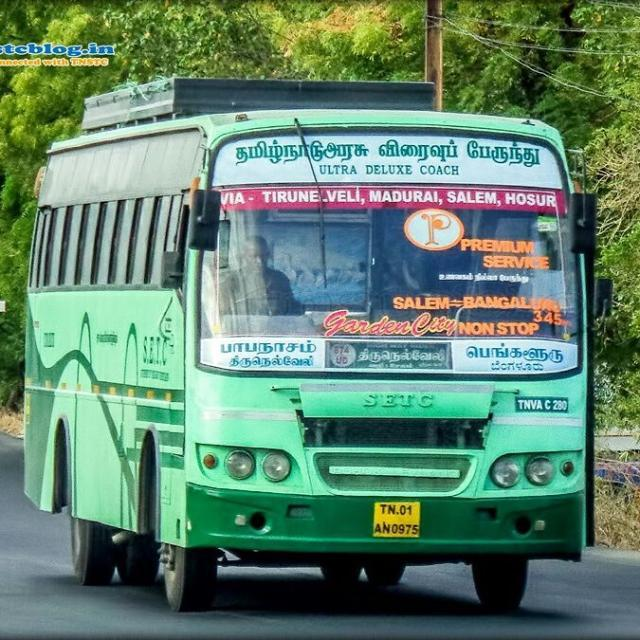Bus: (19, 71, 616, 621)
